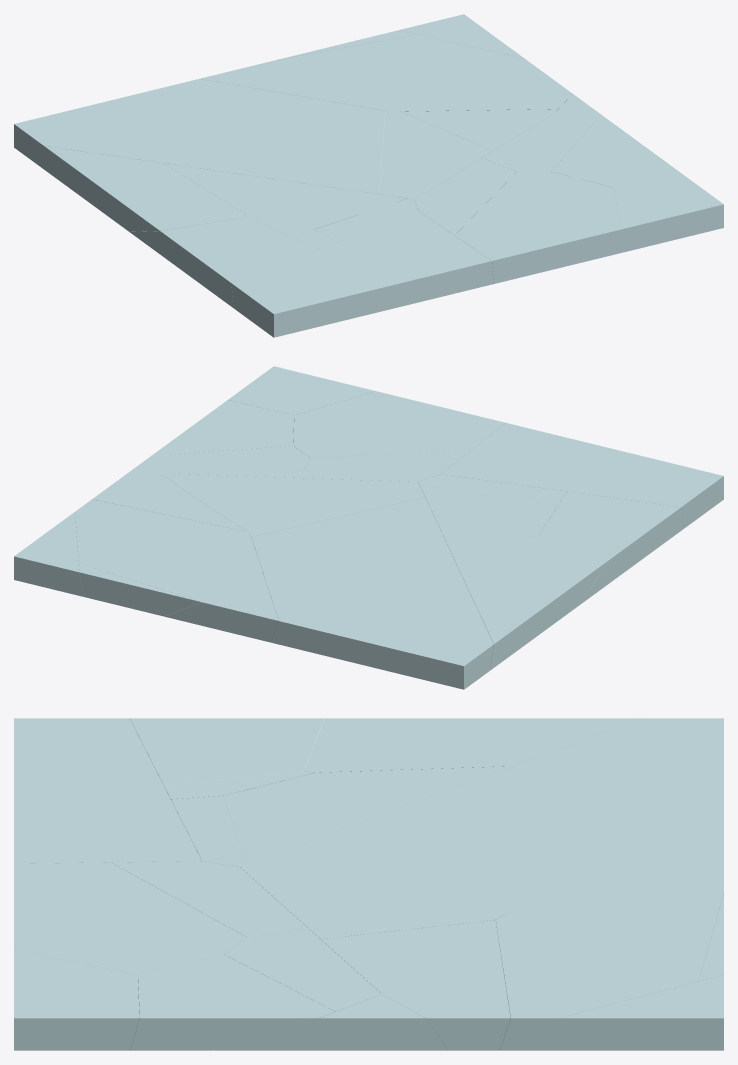
Rendered from glass adjust ver1 .fbx.
3 views of the same model, one above another, from view 1: azimuth 30°, elevation 25°; view 2: azimuth 150°, elevation 25°; view 3: azimuth 270°, elevation 25° (orthographic). The views are drawn at different scales.
Parts seen in each view (by area): view 1: Cube.002_cell.034_cell.006, Cube.002_cell.019, Cube.002_cell.034_cell.002, Cube.002_cell.033_cell.004, Cube.002_cell.026_cell.005, Cube.002_cell.026_cell.003, Cube.002_cell.026_cell.002, Cube.002_cell.033_cell.002, Cube.002_cell.034_cell, Cube.002_cell.033_cell, Cube.002_cell.033_cell.005, Cube.002_cell.034_cell.001 (+7 smaller); view 2: Cube.002_cell.034_cell.006, Cube.002_cell.034_cell.002, Cube.002_cell.019, Cube.002_cell.033_cell.004, Cube.002_cell.026_cell.005, Cube.002_cell.026_cell.003, Cube.002_cell.026_cell.002, Cube.002_cell.034_cell, Cube.002_cell.033_cell, Cube.002_cell.033_cell.005, Cube.002_cell.033_cell.002, Cube.002_cell.035 (+7 smaller); view 3: Cube.002_cell.034_cell.006, Cube.002_cell.034_cell.002, Cube.002_cell.019, Cube.002_cell.033_cell.004, Cube.002_cell.026_cell.005, Cube.002_cell.033_cell, Cube.002_cell.026_cell.002, Cube.002_cell.034_cell, Cube.002_cell.033_cell.002, Cube.002_cell.026_cell.003, Cube.002_cell.035, Cube.002_cell.034_cell.001 (+7 smaller).
Part boxes in pixels (box(x1,y1,x2,y2)): Cube.002_cell.034_cell.006: box(14, 79, 385, 194); Cube.002_cell.019: box(231, 211, 493, 337); Cube.002_cell.034_cell.002: box(199, 34, 541, 111); Cube.002_cell.033_cell.004: box(454, 171, 632, 283); Cube.002_cell.026_cell.005: box(40, 146, 245, 231); Cube.002_cell.026_cell.003: box(130, 217, 319, 307); Cube.002_cell.026_cell.002: box(163, 163, 406, 229); Cube.002_cell.033_cell.002: box(613, 171, 723, 249); Cube.002_cell.034_cell: box(379, 111, 492, 199); Cube.002_cell.033_cell: box(551, 120, 677, 187); Cube.002_cell.033_cell.005: box(414, 158, 516, 235); Cube.002_cell.034_cell.001: box(400, 71, 572, 111); Cube.002_cell.034_cell.006: box(251, 497, 493, 689); Cube.002_cell.034_cell.002: box(75, 499, 278, 642); Cube.002_cell.019: box(441, 423, 723, 528); Cube.002_cell.033_cell.004: box(293, 391, 505, 458); Cube.002_cell.026_cell.005: box(469, 534, 609, 670); Cube.002_cell.026_cell.003: box(539, 491, 683, 604); Cube.002_cell.026_cell.002: box(419, 485, 532, 591); Cube.002_cell.034_cell: box(245, 477, 424, 536); Cube.002_cell.033_cell: box(162, 400, 294, 454); Cube.002_cell.033_cell.005: box(299, 449, 471, 481); Cube.002_cell.033_cell.002: box(228, 366, 375, 415); Cube.002_cell.035: box(14, 512, 83, 596); Cube.002_cell.034_cell.006: box(278, 718, 723, 912); Cube.002_cell.034_cell.002: box(495, 842, 723, 1050); Cube.002_cell.019: box(14, 718, 201, 863); Cube.002_cell.033_cell.004: box(14, 862, 246, 974); Cube.002_cell.026_cell.005: box(304, 718, 641, 772); Cube.002_cell.033_cell: box(130, 954, 334, 1050); Cube.002_cell.026_cell.002: box(223, 766, 511, 864); Cube.002_cell.034_cell: box(240, 853, 506, 939); Cube.002_cell.033_cell.002: box(14, 950, 139, 1050); Cube.002_cell.026_cell.003: box(130, 718, 324, 785); Cube.002_cell.035: box(546, 975, 723, 1050); Cube.002_cell.034_cell.001: box(394, 920, 510, 1050).
Bounding box in the file's own units: 800 × 40 × 800.
